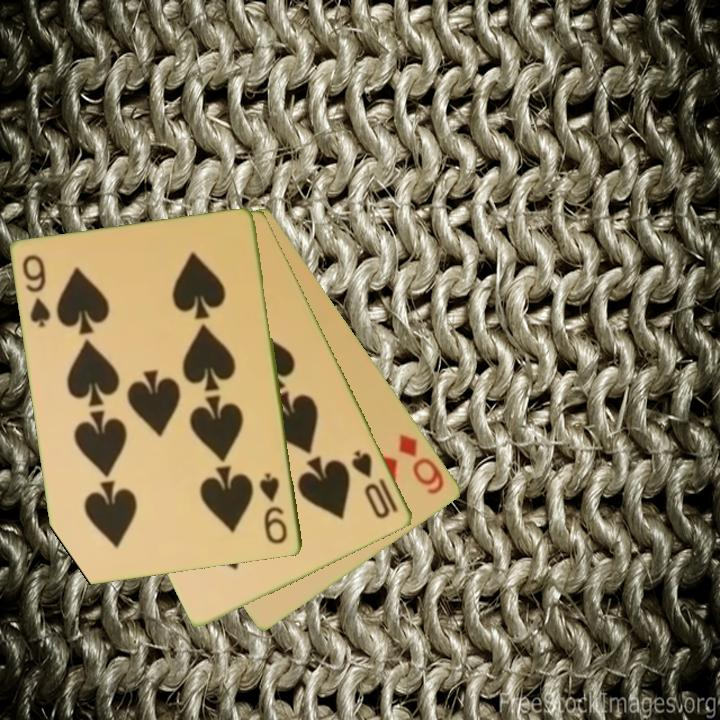10s: (348, 447, 401, 522)
6d: (395, 430, 448, 498)
9s: (19, 251, 54, 331), (256, 470, 291, 548)
